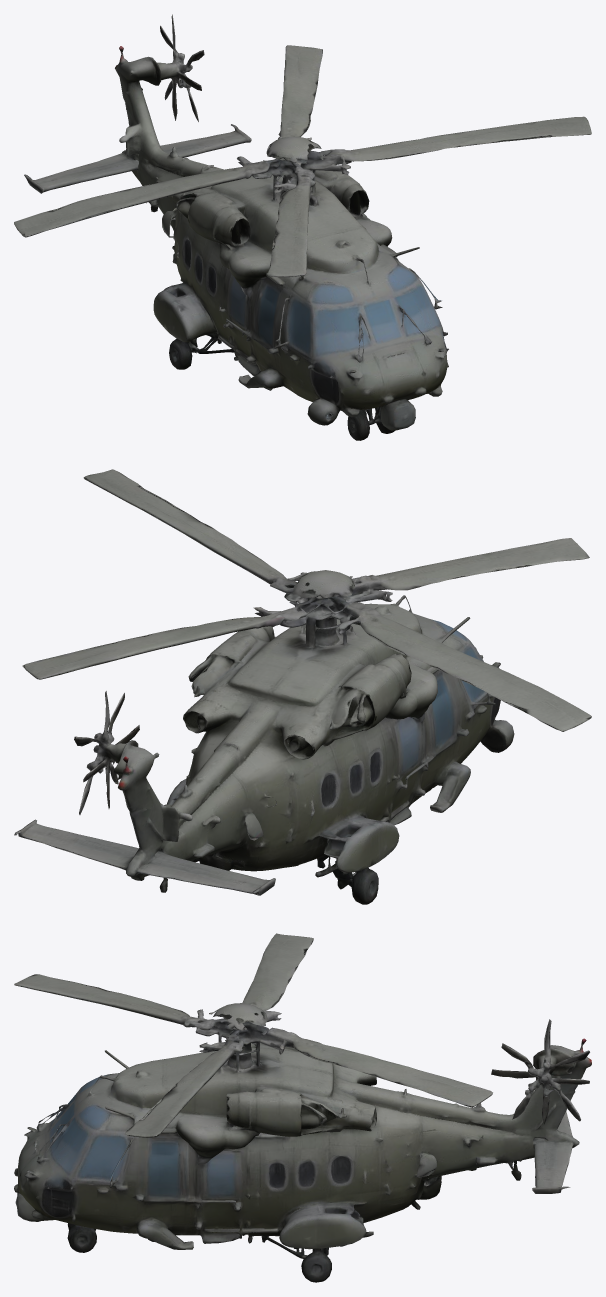
The model's file is heli.glb.
3 renders of one model, top to bottom at view 1: azimuth 30°, elevation 25°; view 2: azimuth 150°, elevation 25°; view 3: azimuth 270°, elevation 25°, orthographic. The views are drawn at different scales.
Bounding box in the file's own units: 0.9977 × 0.4619 × 0.9971.
1 material, 1 textured.
